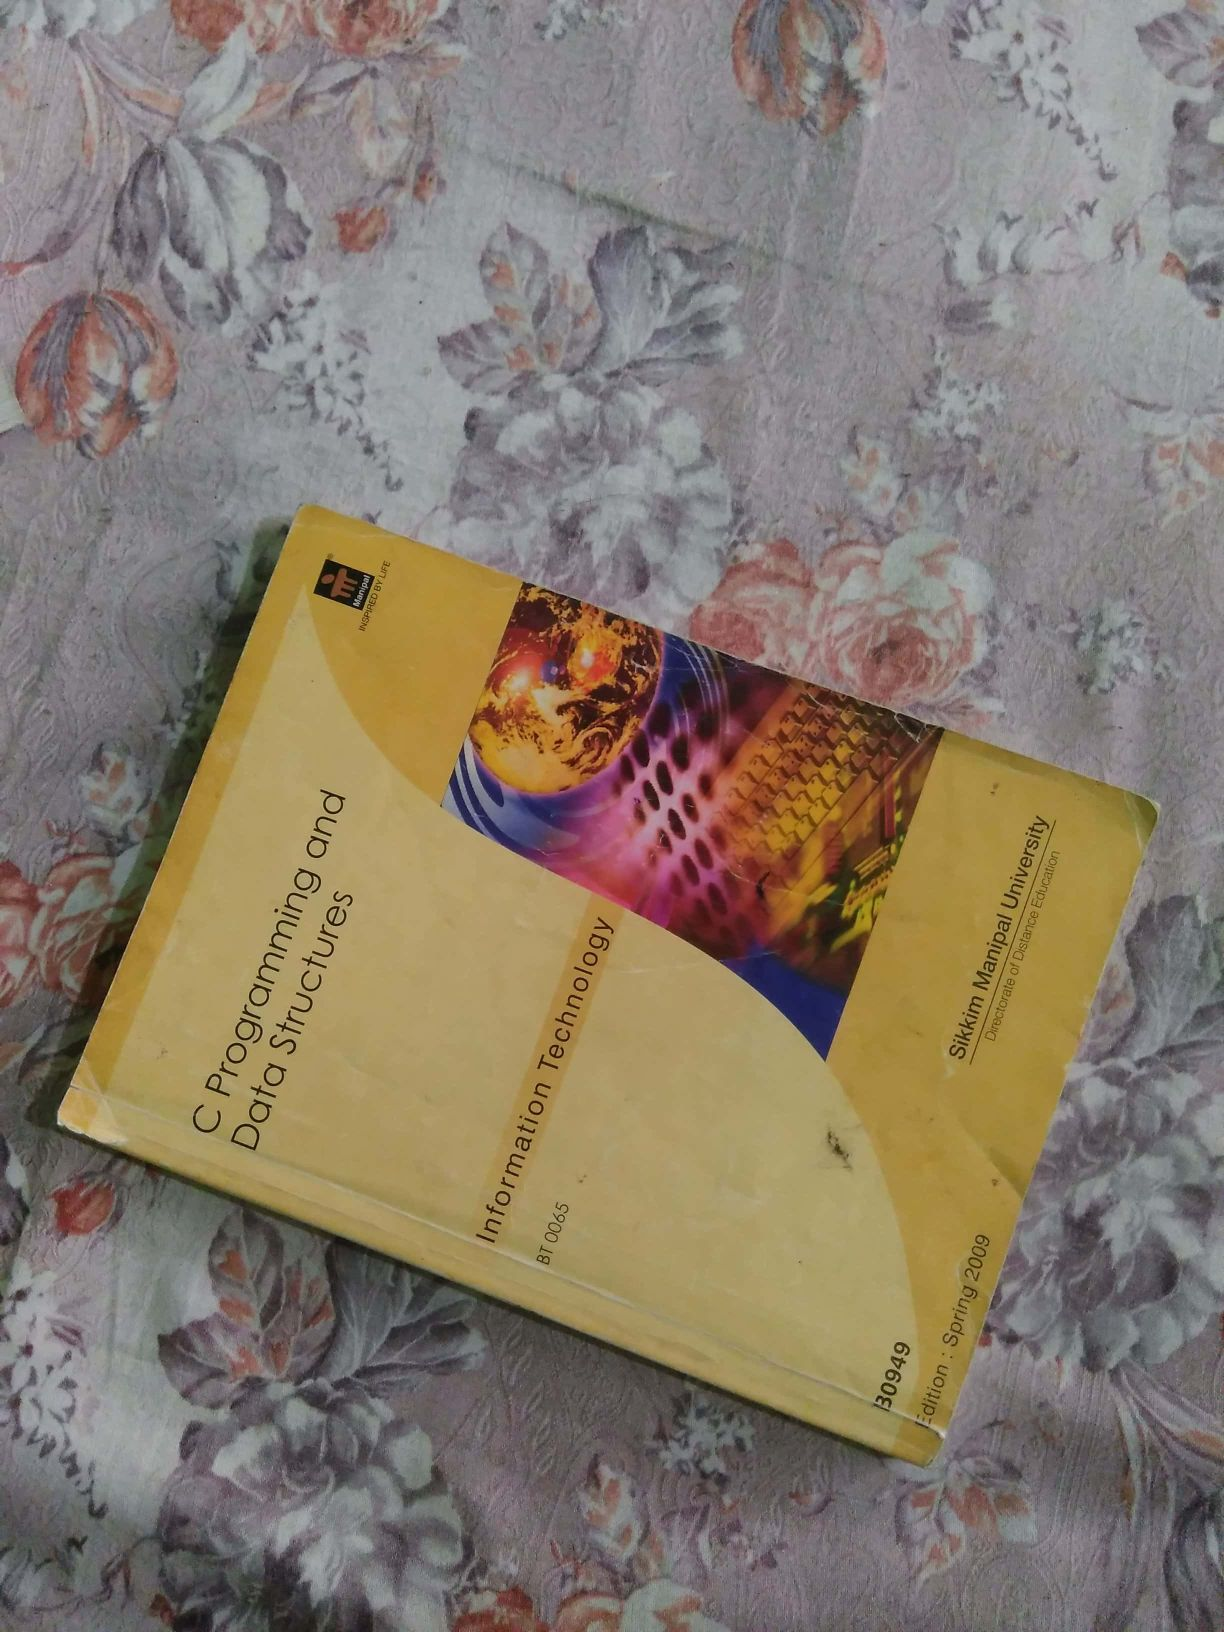clang: (36, 502, 1137, 1488)
